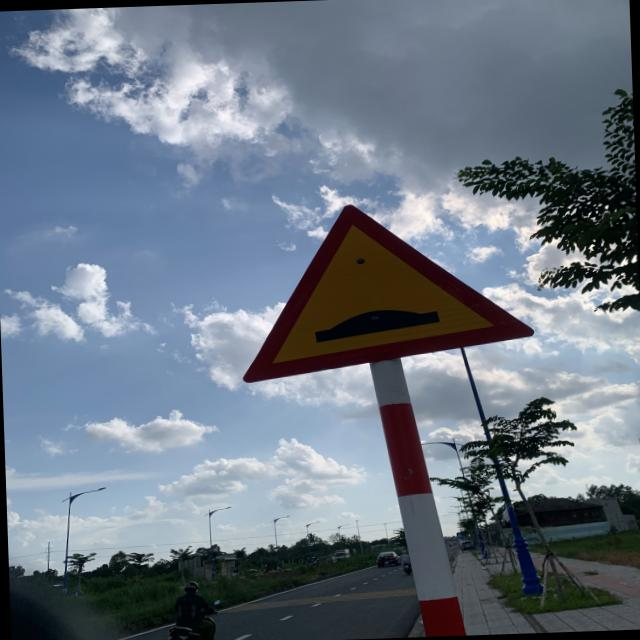Duong_Cong_Ben_Phai: (234, 194, 538, 382)
